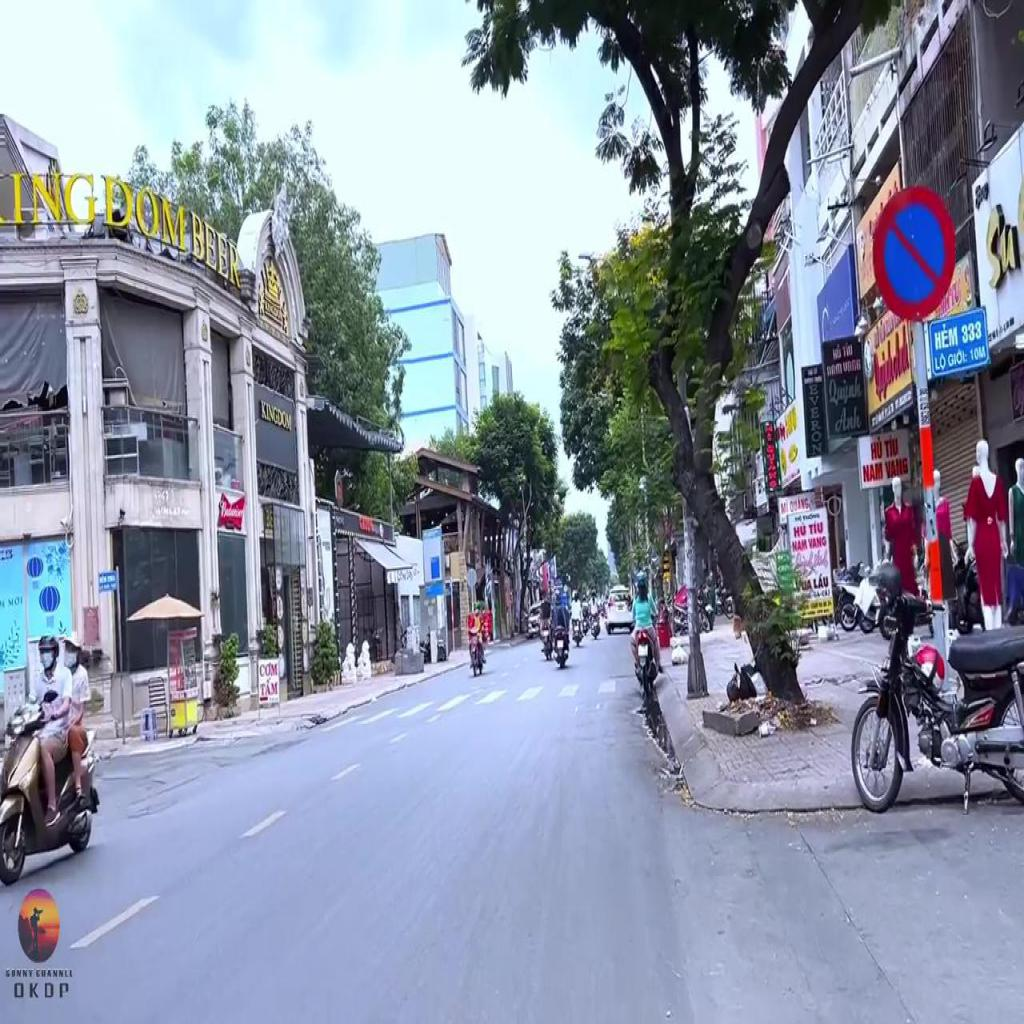cam_do_xe: (872, 185, 959, 323)
